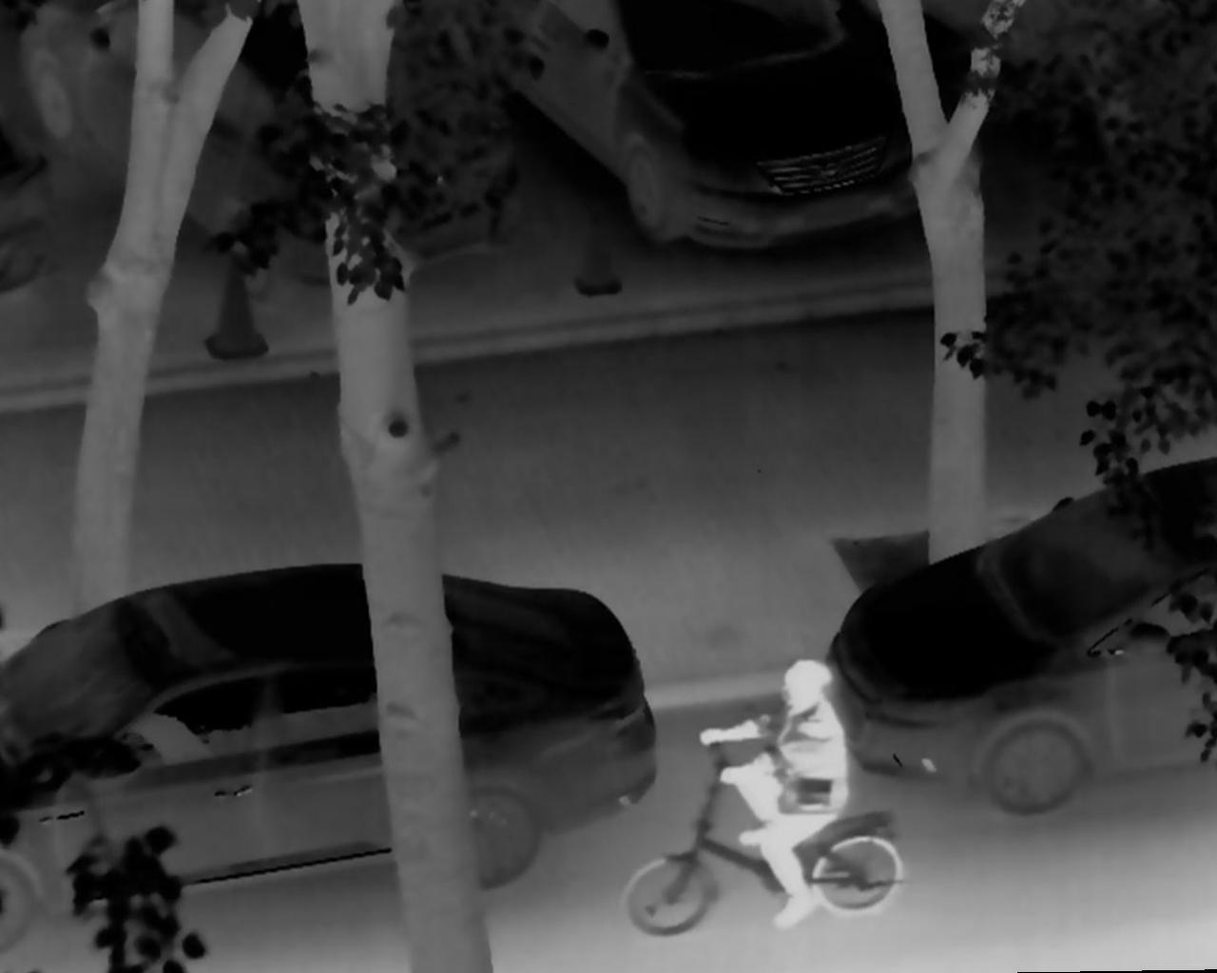person: (703, 651, 849, 928)
